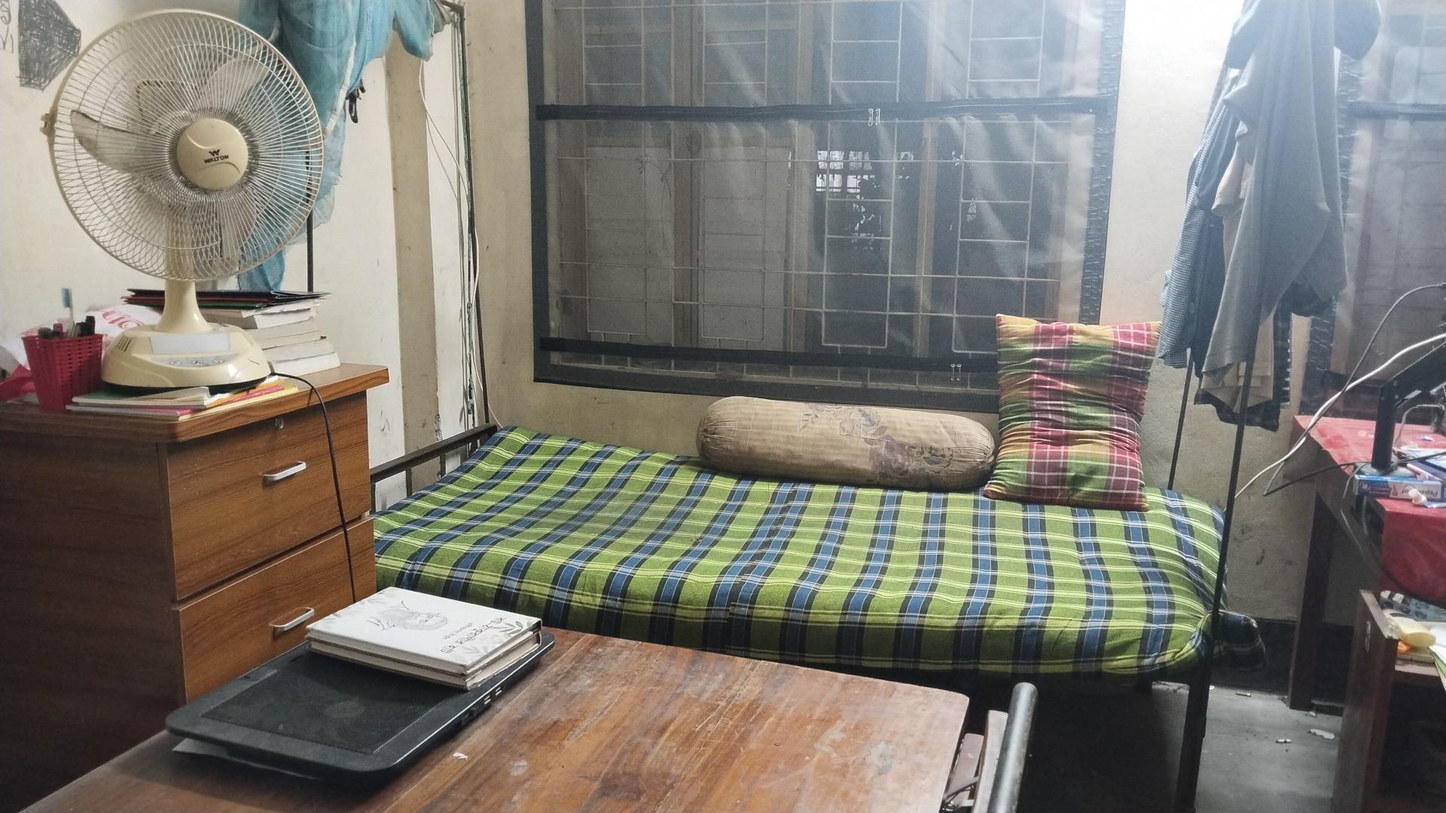Book: (306, 591, 544, 688)
Fan: (54, 14, 332, 391)
Pillow: (996, 313, 1148, 505), (699, 401, 992, 491)
Window: (539, 1, 698, 364), (929, 8, 1068, 379), (797, 7, 924, 366), (699, 0, 796, 360)
